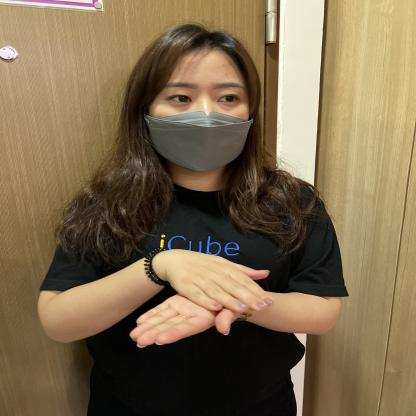Love: (72, 228, 319, 378)
